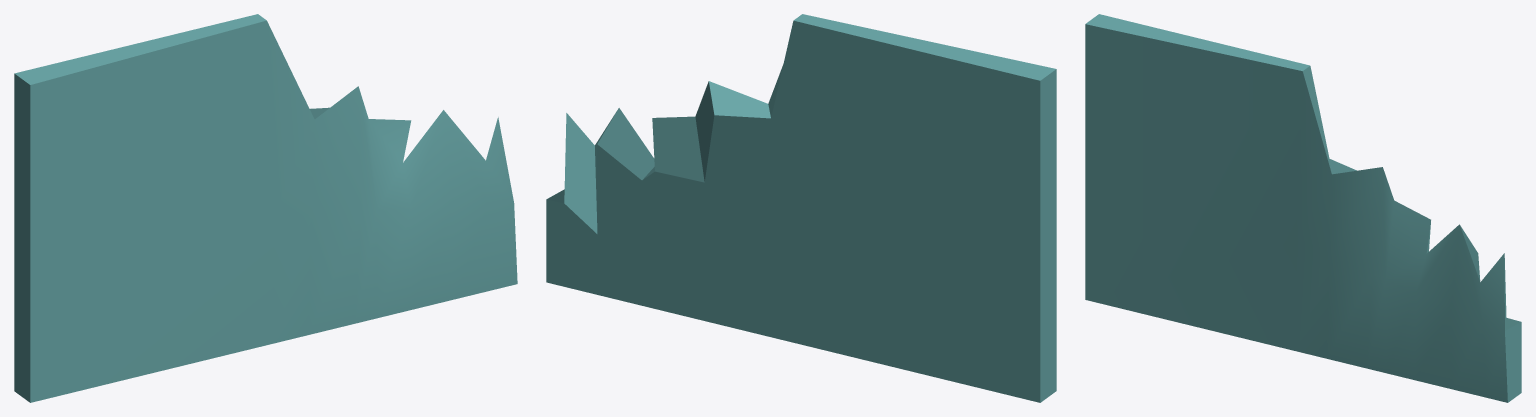
Rendered from Pared.FBX.
The picture shows the model from 3 angles, left to right: view 1: azimuth 30°, elevation 25°; view 2: azimuth 150°, elevation 25°; view 3: azimuth 330°, elevation 25°; orthographic projection. The views are drawn at different scales.
Visible parts, largest first — view 1: Box002; view 2: Box002; view 3: Box002.
Part boxes in pixels (box(x1,y1,x2,y2)): Box002: box(14, 14, 517, 402); Box002: box(546, 14, 1056, 402); Box002: box(1085, 14, 1521, 402).
Bounding box in the file's own units: 228 × 142 × 12.92.
